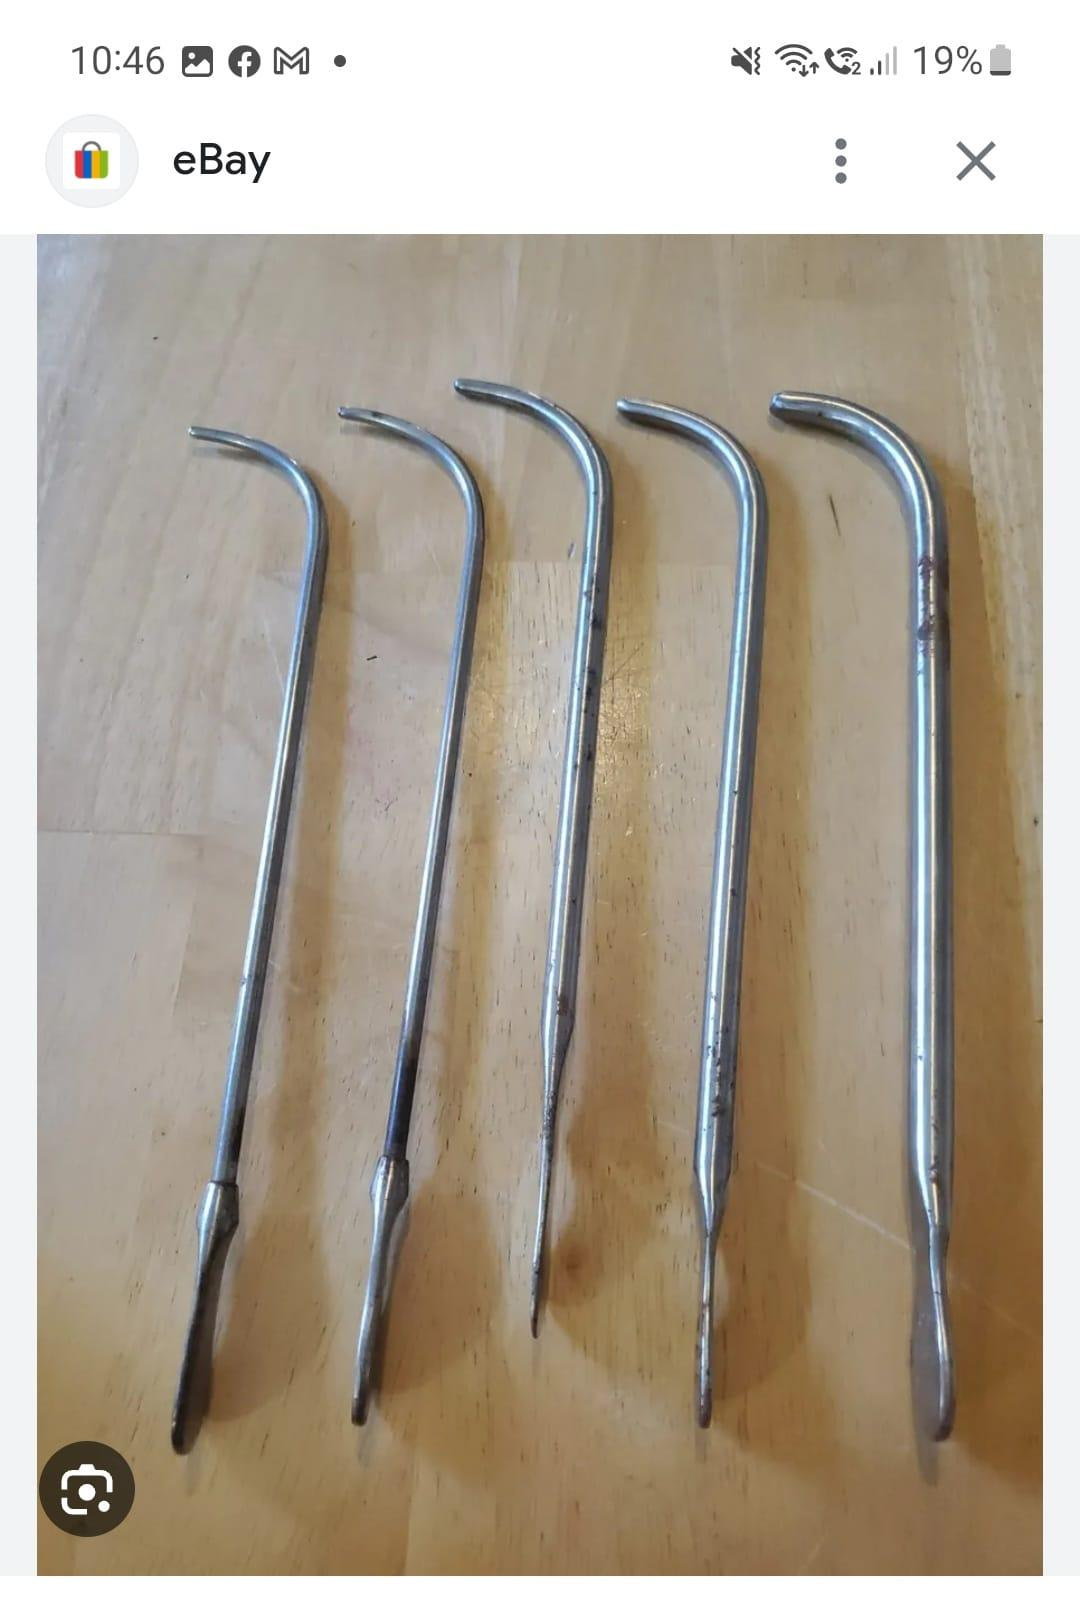Urethral Dilators: (768, 372, 987, 1450), (133, 412, 337, 1457), (307, 390, 500, 1433), (445, 363, 640, 1345), (615, 388, 785, 1443)
